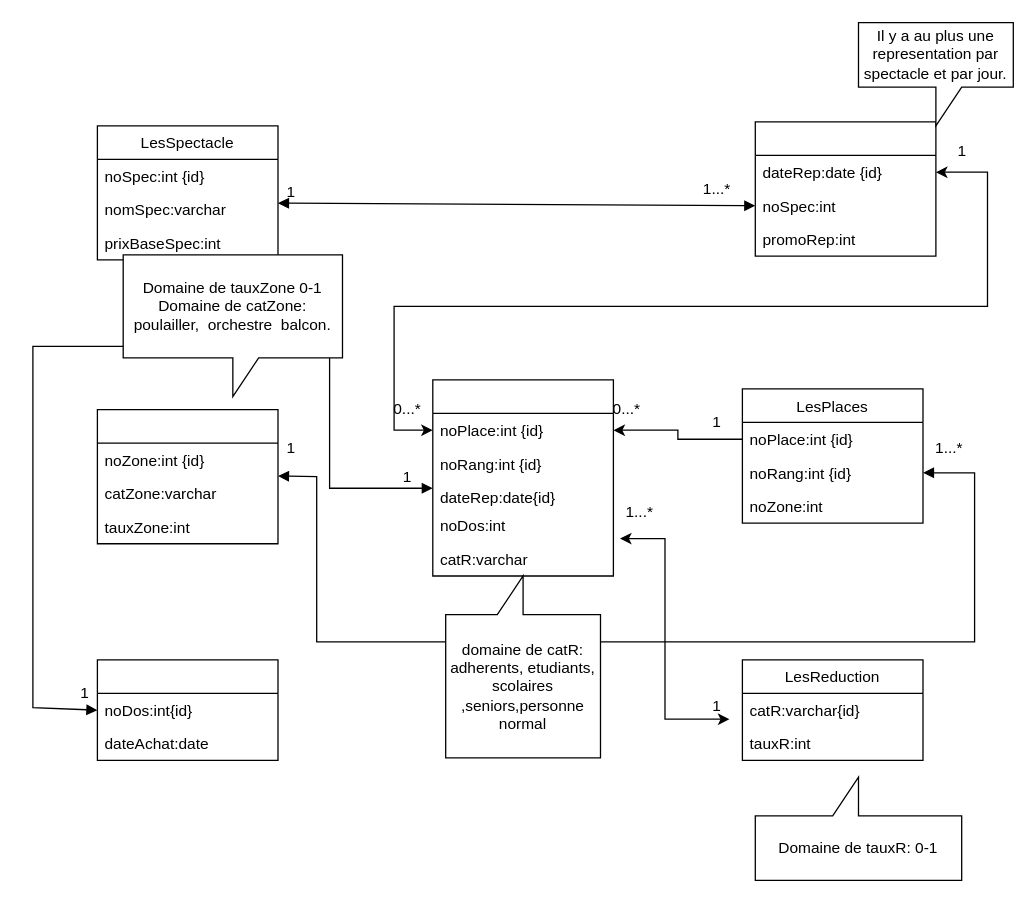
The diagram is 1036 pixels wide and 903 high, and some of its shapes have lost their labels. Here are the shapes that lost their labels. From the top down, the box of each, then its label:
(754, 121, 936, 256): lesPresemtation_base
(96, 408, 278, 544): LesZones
(432, 379, 613, 576): LesVentes
(96, 659, 278, 760): dossier_base
